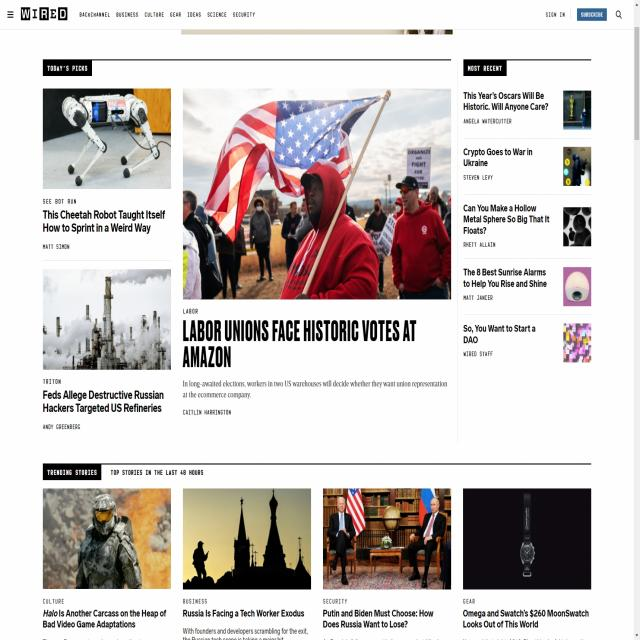menu-bar: (74, 4, 259, 24), (540, 4, 630, 22)
